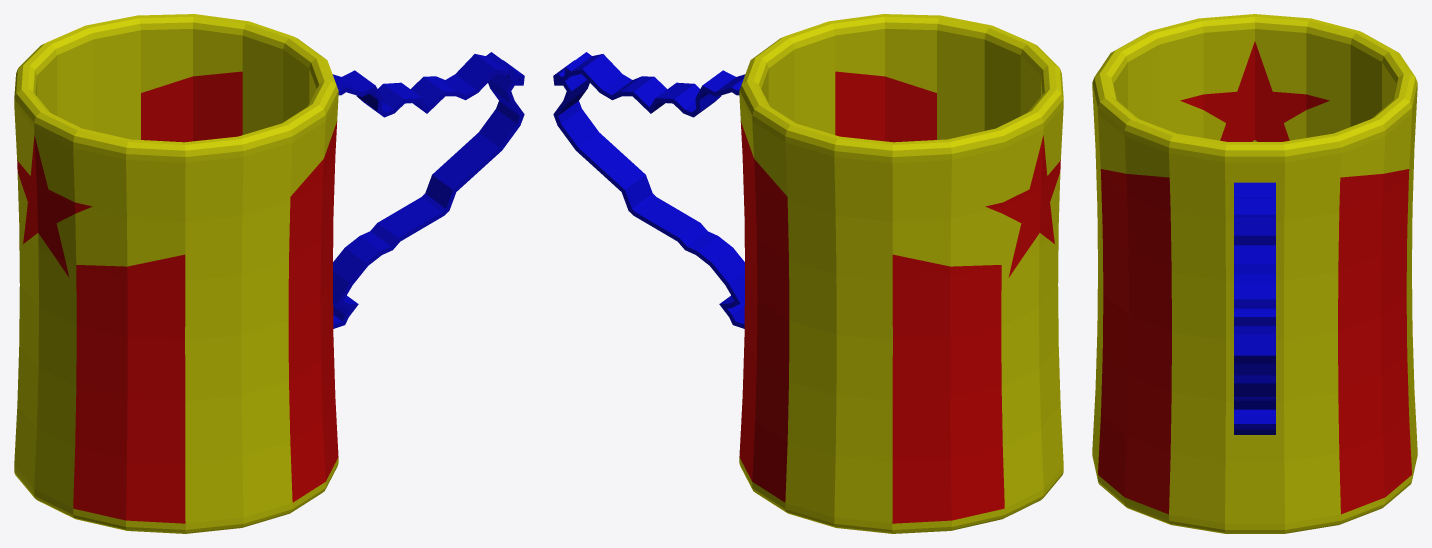
3 renders of one model, left to right at view 1: azimuth 30°, elevation 25°; view 2: azimuth 150°, elevation 25°; view 3: azimuth 270°, elevation 25°, orthographic.
Parts seen in each view (by area): view 1: mesh6.001_mesh6-geometry, mesh4.001_mesh4-geometry, mesh2.001_mesh2-geometry, mesh7.001_mesh7-geometry, mesh1.001_mesh1-geometry, mesh5.001_mesh5-geometry; view 2: mesh6.001_mesh6-geometry, mesh3.001_mesh3-geometry, mesh1.001_mesh1-geometry, mesh7.001_mesh7-geometry, mesh2.001_mesh2-geometry, mesh5.001_mesh5-geometry; view 3: mesh6.001_mesh6-geometry, mesh2.001_mesh2-geometry, mesh1.001_mesh1-geometry, mesh7.001_mesh7-geometry, mesh5.001_mesh5-geometry.
Boxes of the visible parts, x1,y1,x2,y2 form: mesh6.001_mesh6-geometry: (14, 14, 338, 533); mesh4.001_mesh4-geometry: (73, 254, 185, 523); mesh2.001_mesh2-geometry: (288, 121, 338, 502); mesh7.001_mesh7-geometry: (332, 52, 524, 328); mesh1.001_mesh1-geometry: (141, 71, 242, 142); mesh5.001_mesh5-geometry: (17, 135, 92, 277); mesh6.001_mesh6-geometry: (739, 14, 1063, 533); mesh3.001_mesh3-geometry: (892, 254, 1004, 523); mesh1.001_mesh1-geometry: (739, 121, 789, 502); mesh7.001_mesh7-geometry: (553, 52, 745, 328); mesh2.001_mesh2-geometry: (835, 71, 936, 142); mesh5.001_mesh5-geometry: (985, 135, 1060, 277); mesh6.001_mesh6-geometry: (1092, 14, 1417, 533); mesh2.001_mesh2-geometry: (1098, 169, 1171, 514); mesh1.001_mesh1-geometry: (1338, 169, 1411, 514); mesh7.001_mesh7-geometry: (1234, 182, 1275, 434); mesh5.001_mesh5-geometry: (1180, 41, 1329, 141).
Bounding box in the file's own units: 0.7179 × 0.5546 × 0.4207.
